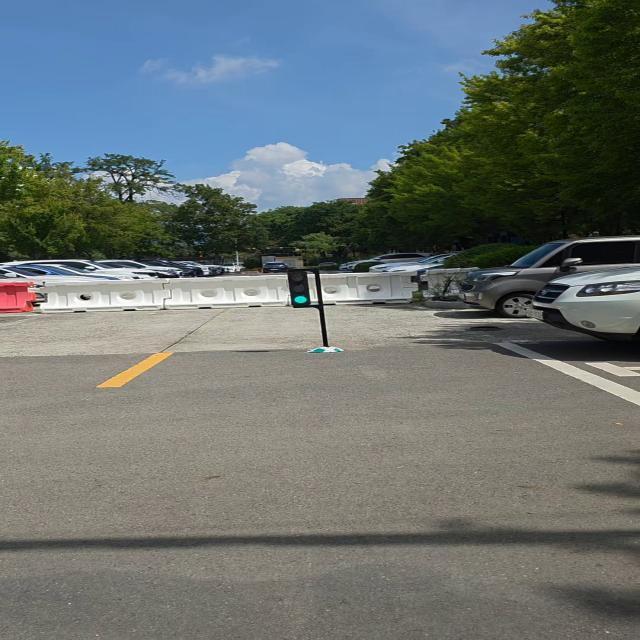green: (284, 268, 312, 310)
